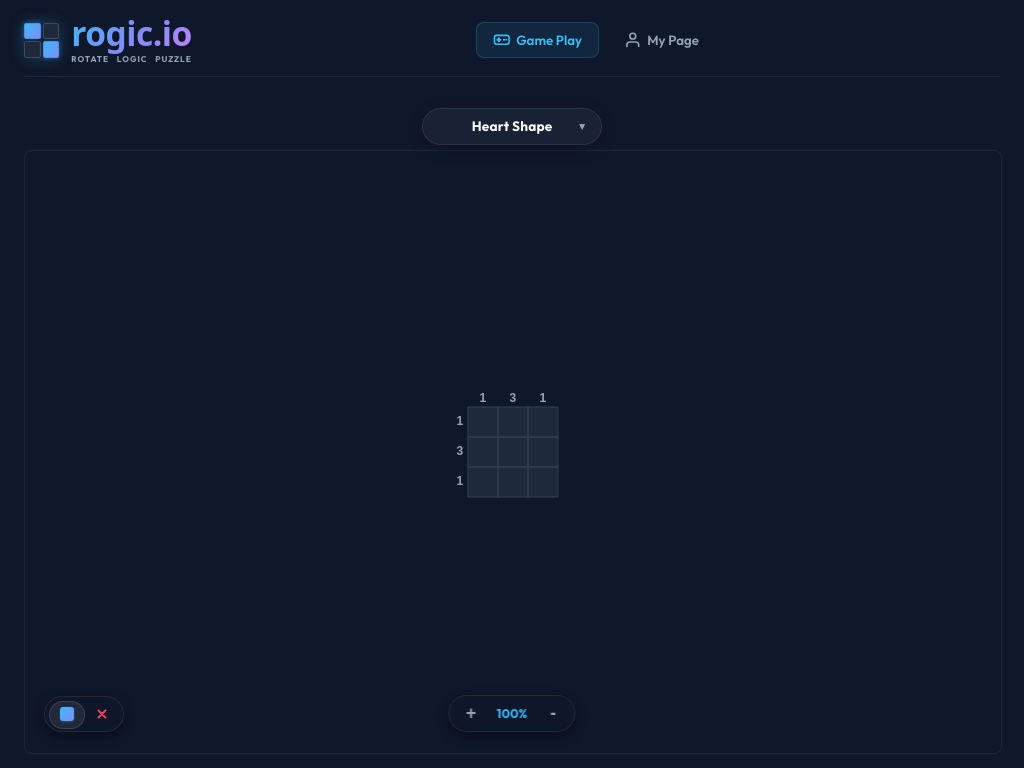
Test case: App.vue Leaderboard Integration TDD › should switch to My Page tab and fetch/render user history
The width and height of the screenshot is (1024, 768).
Click the button with class "tab-btn-mypage".
click(662, 40)  # box [607,22,716,58]
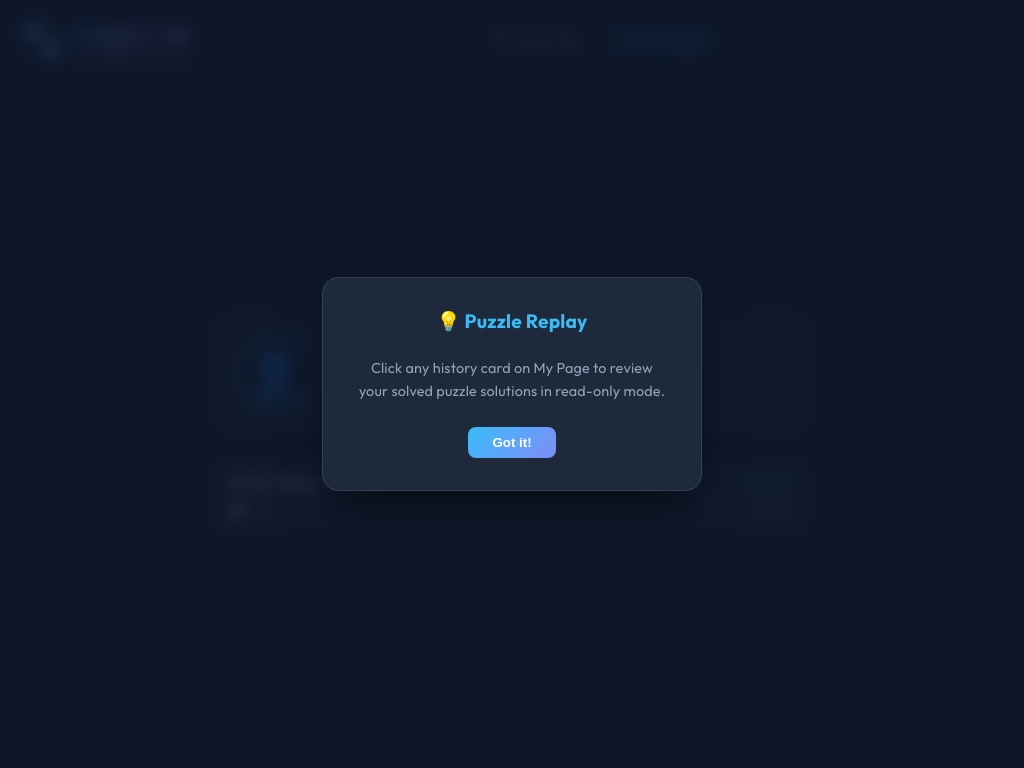
Expected: the element with class "history-item" shows "Heart Shape", [229,472,322,492]
Expected: the number of elements with class "history-item" is 1, [212,457,808,535]
